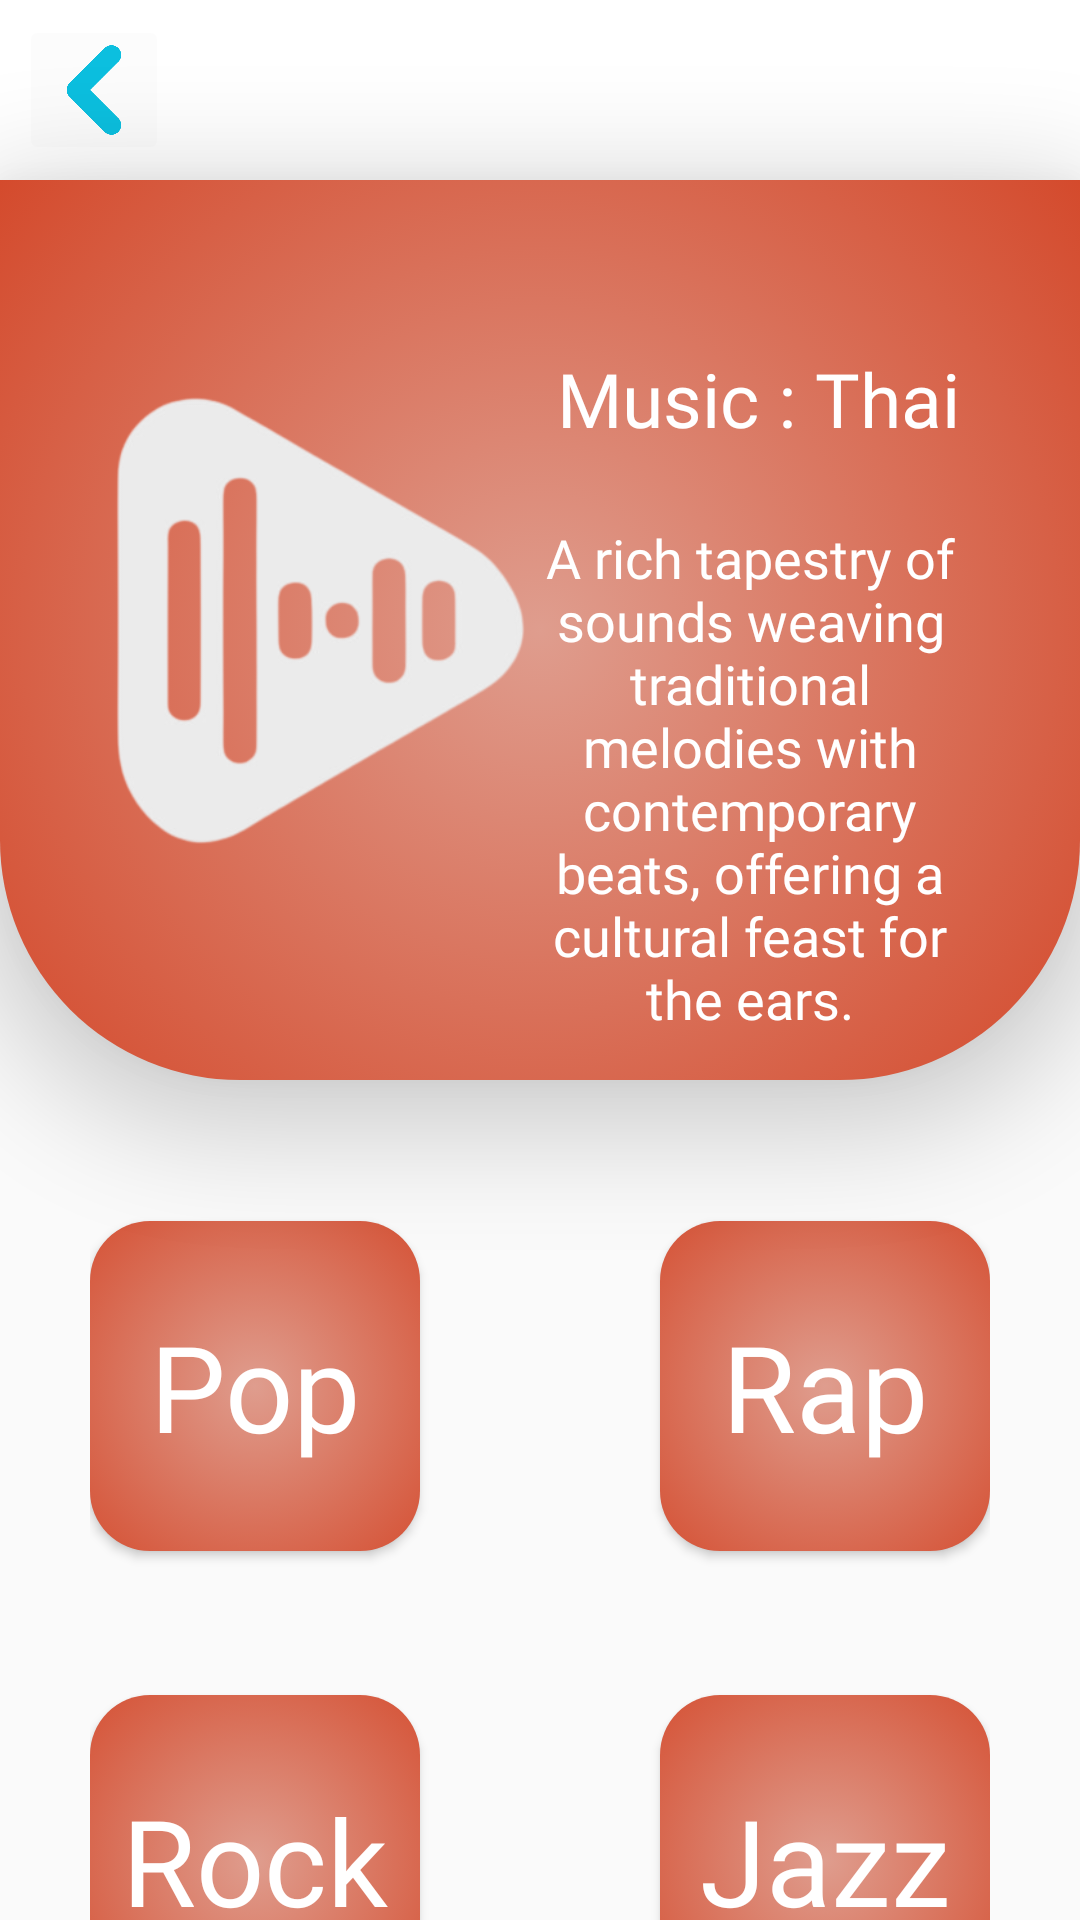

Where to tap for icons on this 1080*1920 app screen, as (x,y):
back: (94,90)
